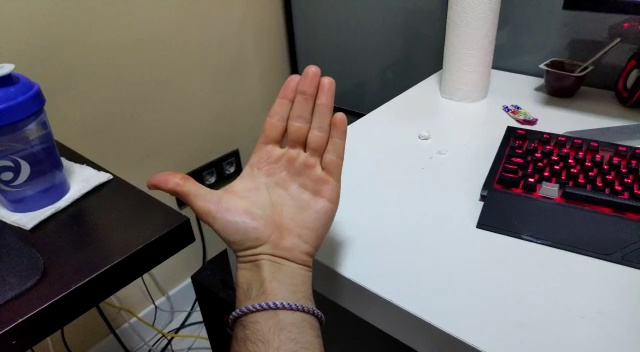Palm: (144, 62, 347, 263)
